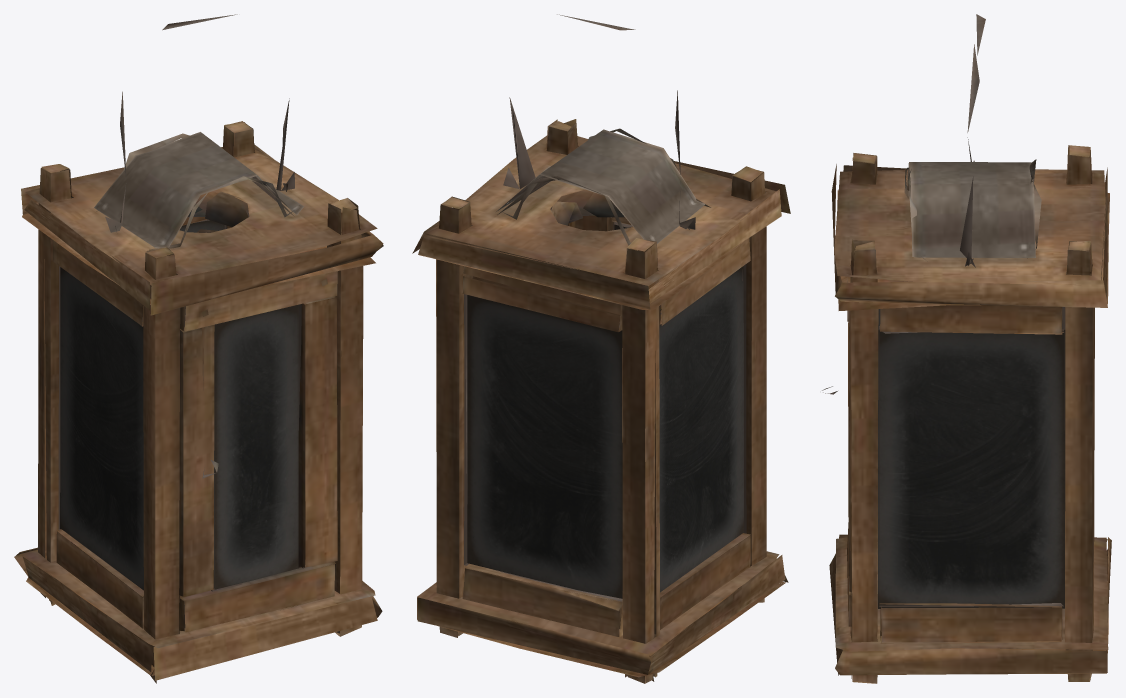
The model's file is ph_wooden_lantern_01.glb.
The picture shows the model from 3 angles, left to right: view 1: azimuth 30°, elevation 25°; view 2: azimuth 150°, elevation 25°; view 3: azimuth 270°, elevation 25°; orthographic projection. The views are drawn at different scales.
Parts seen in each view (by area): view 1: wooden_lantern_01; view 2: wooden_lantern_01; view 3: wooden_lantern_01.
Part boxes in pixels (left/top/right/bottom): wooden_lantern_01: left=14, top=14, right=383, bottom=683; wooden_lantern_01: left=412, top=14, right=790, bottom=683; wooden_lantern_01: left=822, top=14, right=1111, bottom=683.
Bounding box in the file's own units: 0.2206 × 0.5262 × 0.2302.
Materials: 2 (2 with a texture image).
